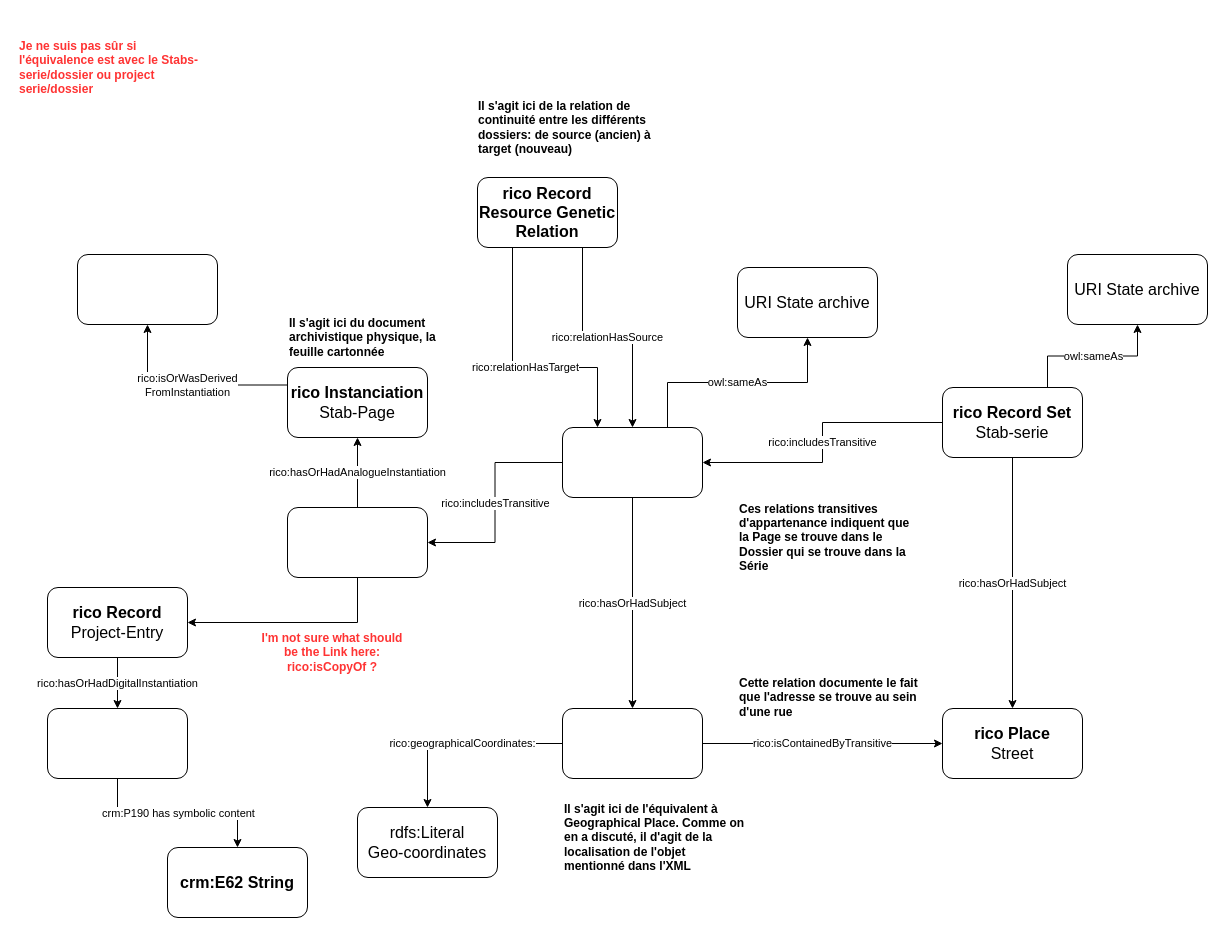
This 1225x935 diagram has some shape labels left out. Each missing label, with the centre of its shape:
"crmE33 Linguistic Object Project-Entry" belongs at point 117,743.
"rico Instanciation Photo" belongs at point 147,289.
"rico Place Address" belongs at point 632,743.
"rico Record Set Stab-dossier" belongs at point 632,462.
"rico Record Stab-Page" belongs at point 357,542.
